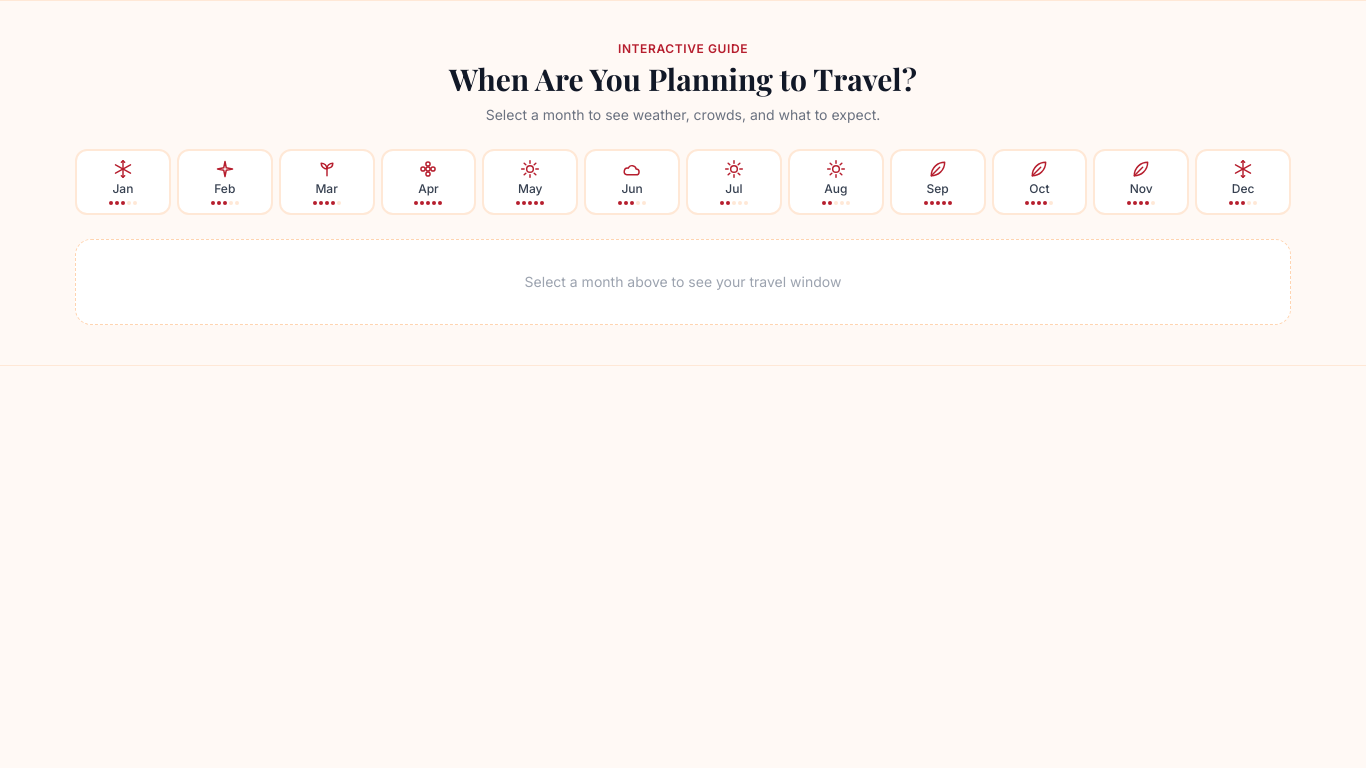
Test: MonthPickerWidget › deselects month when clicked again
This screenshot has width=1366, height=768.
Click the button "May" at x=530, y=182, box [482,149,578,215]
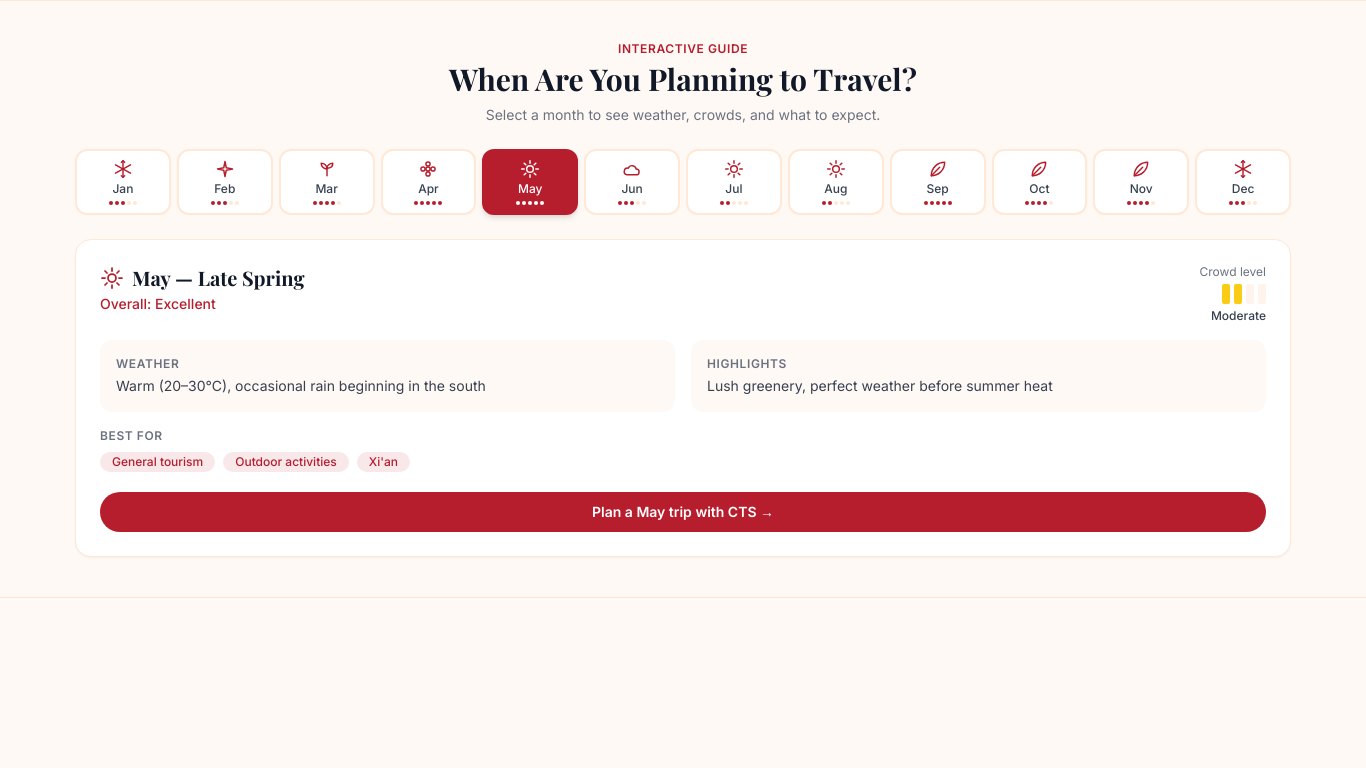
Now the text "Select a month above to see your travel window" is gone
Click the button "May" at x=530, y=182, box [482,149,578,215]
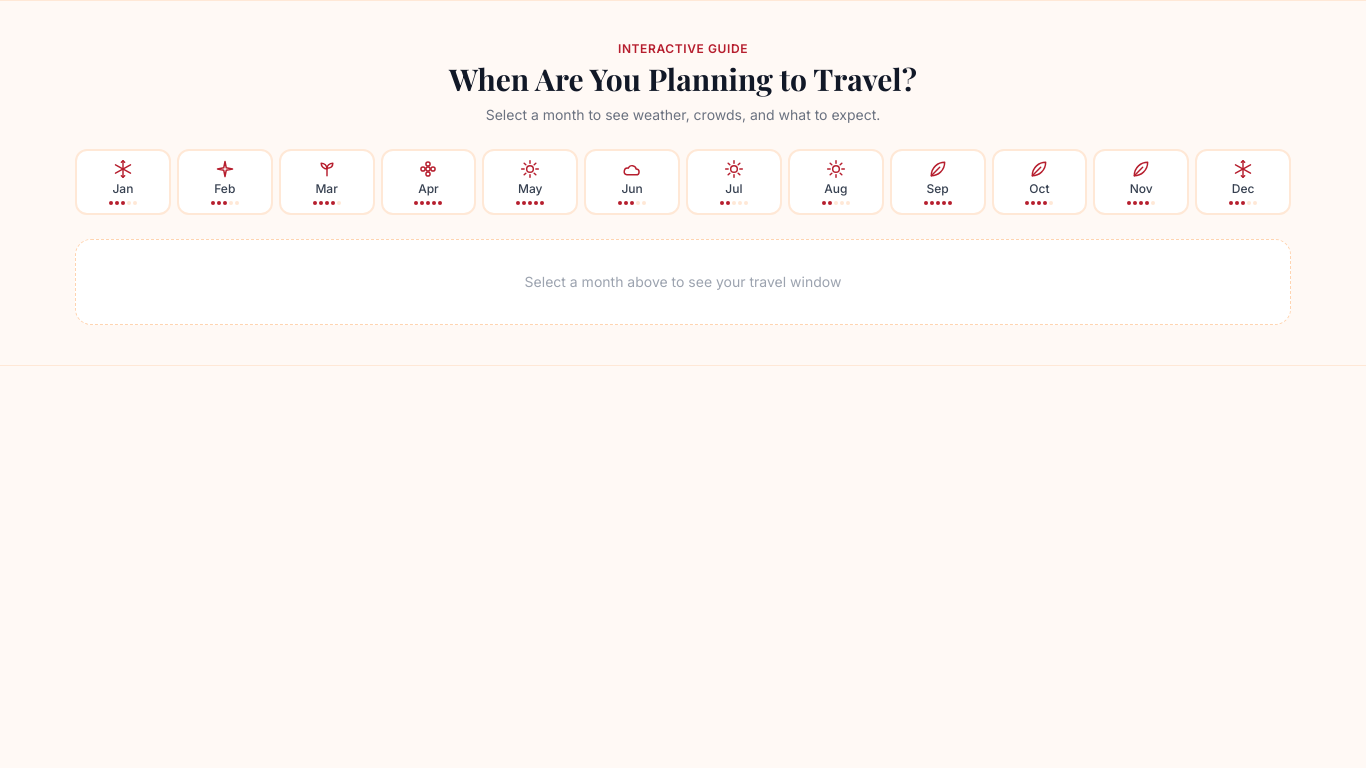
Now the text "Select a month above to see your travel window" is shown, box [75,239,1291,325]
